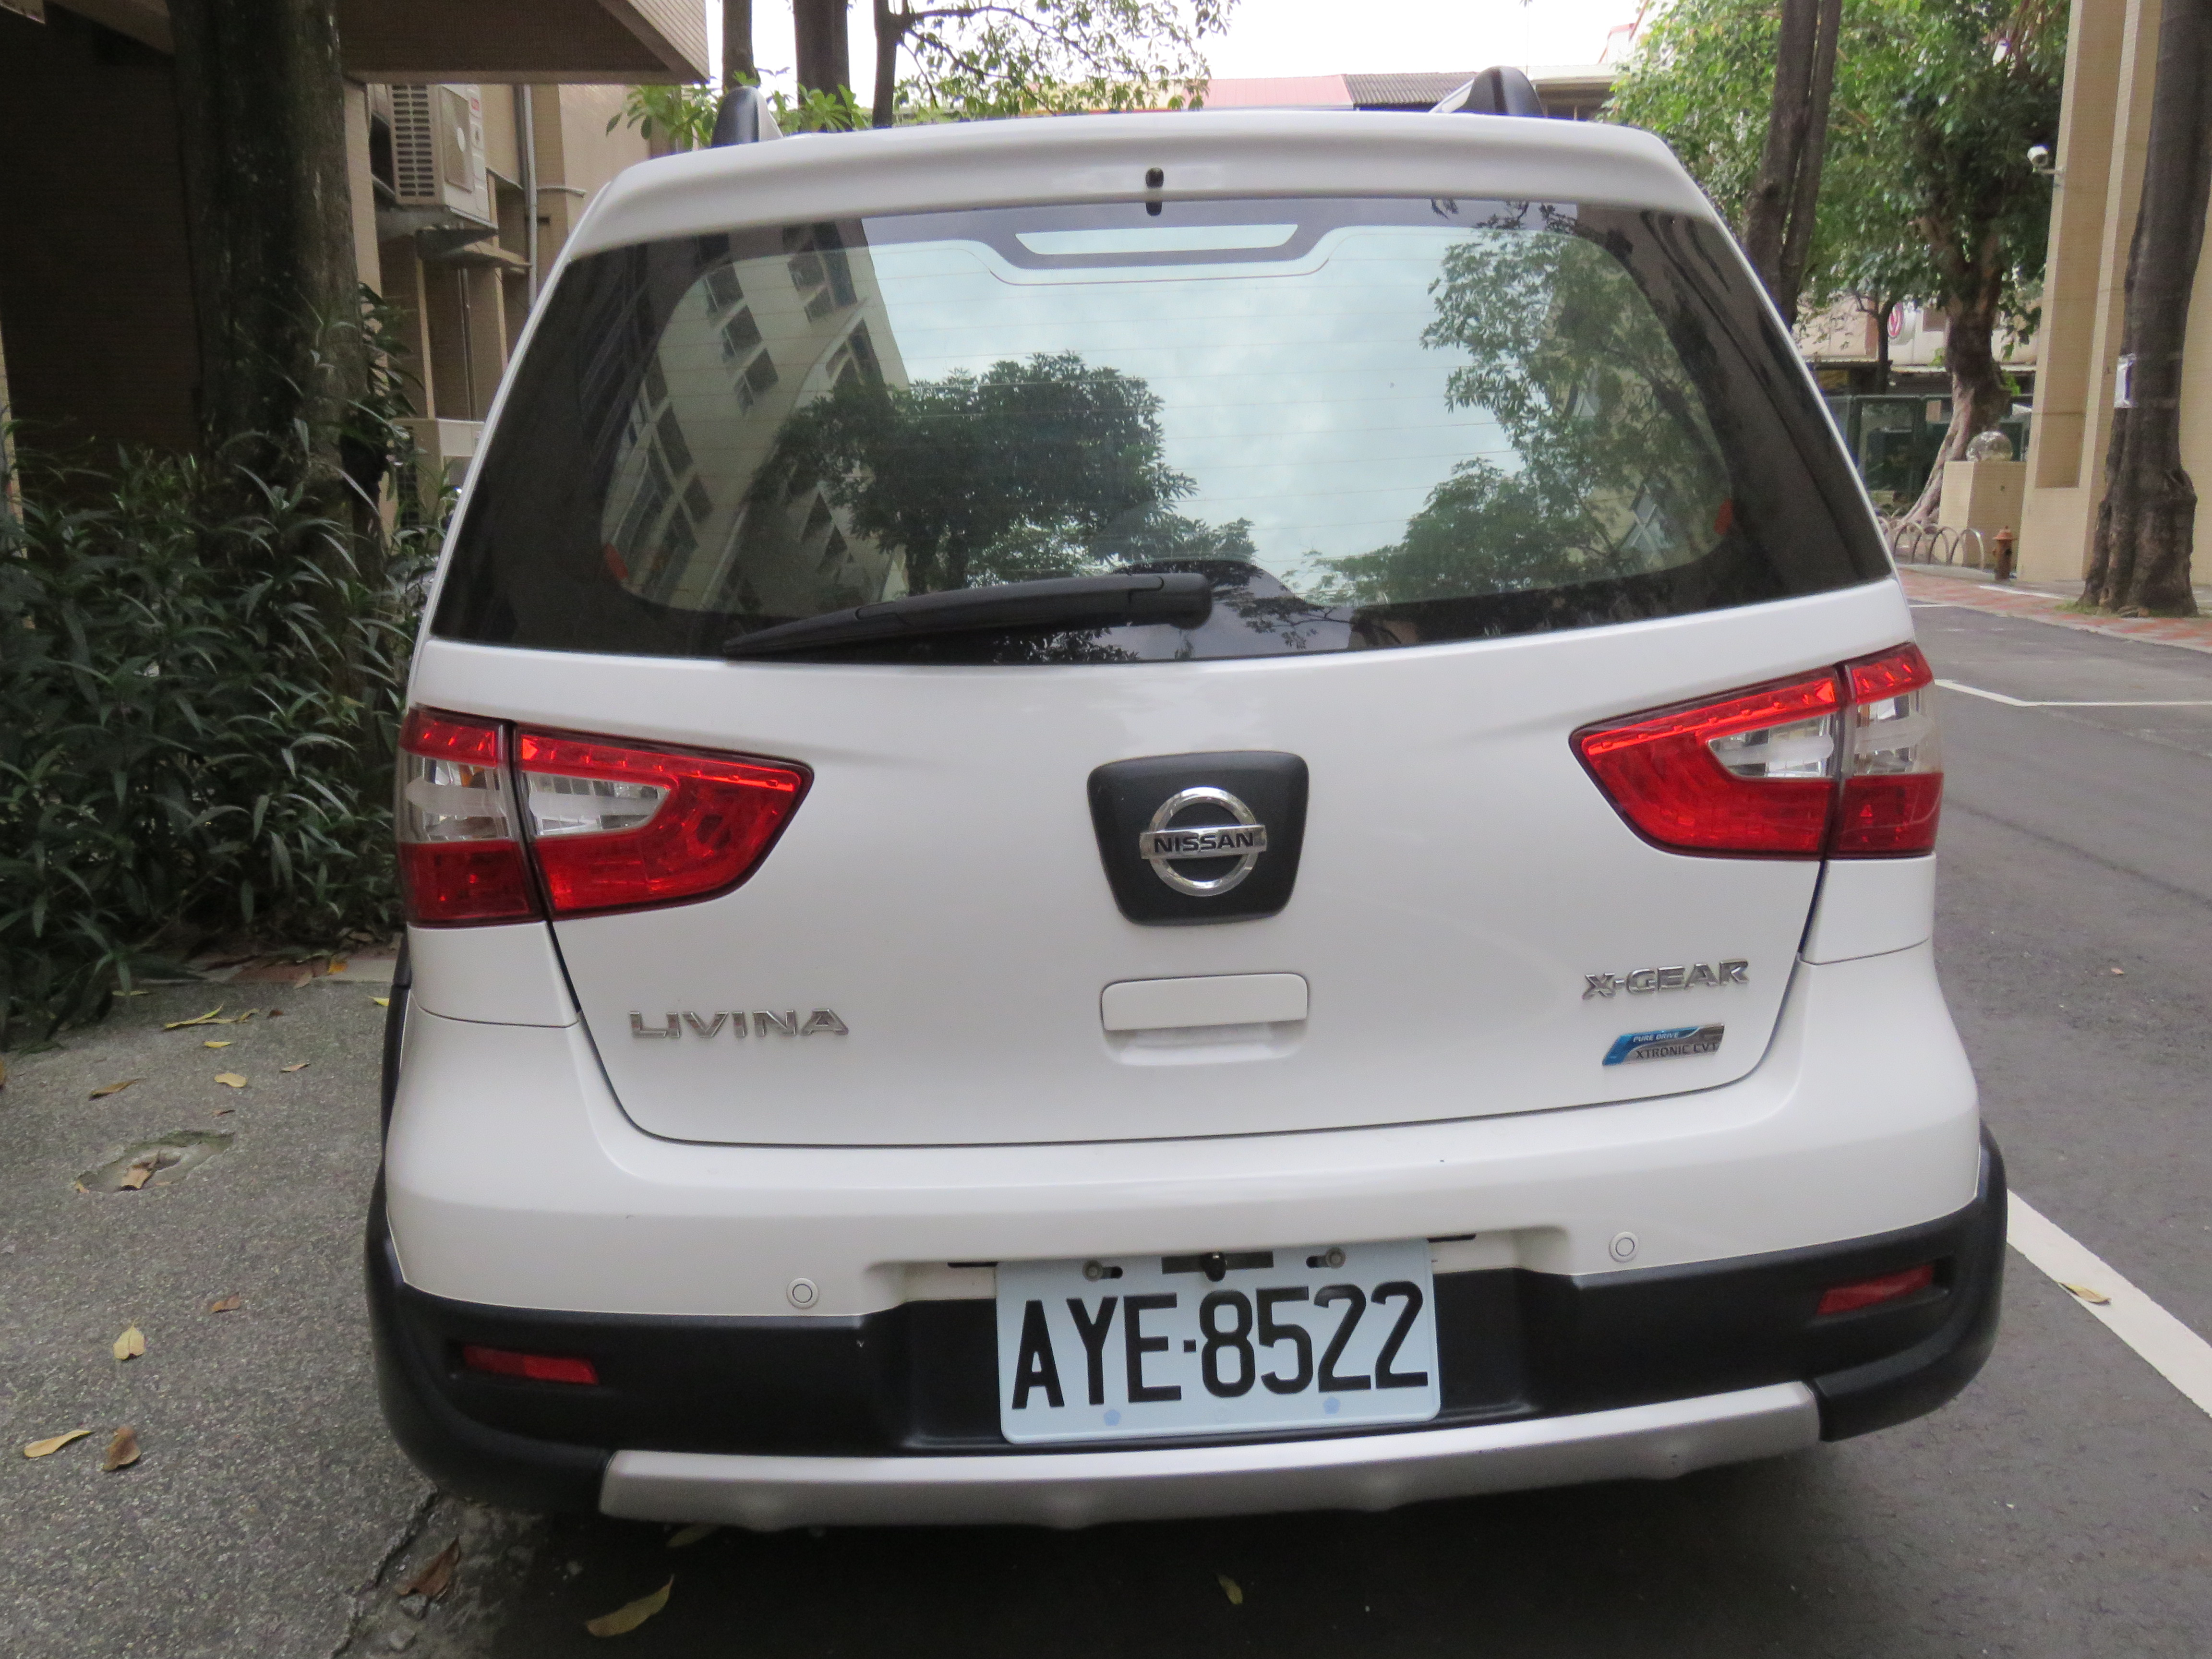car: (364, 110, 2006, 1540)
car_card: (993, 1251, 1447, 1431)
